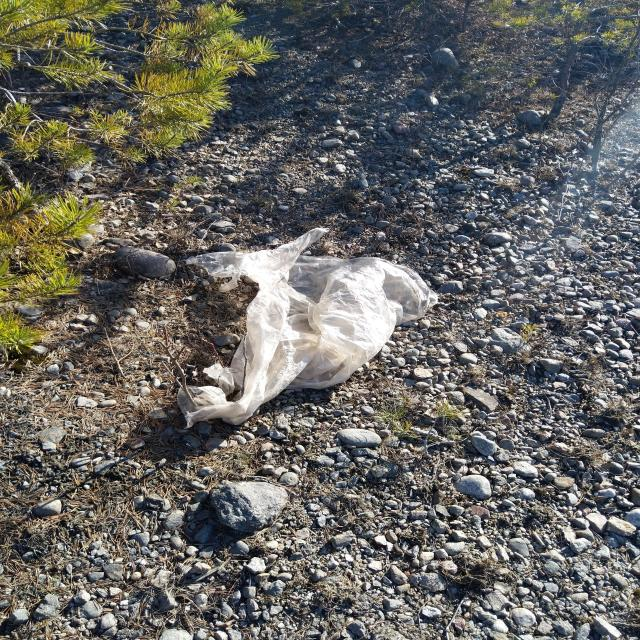litter: (133, 194, 467, 457)
